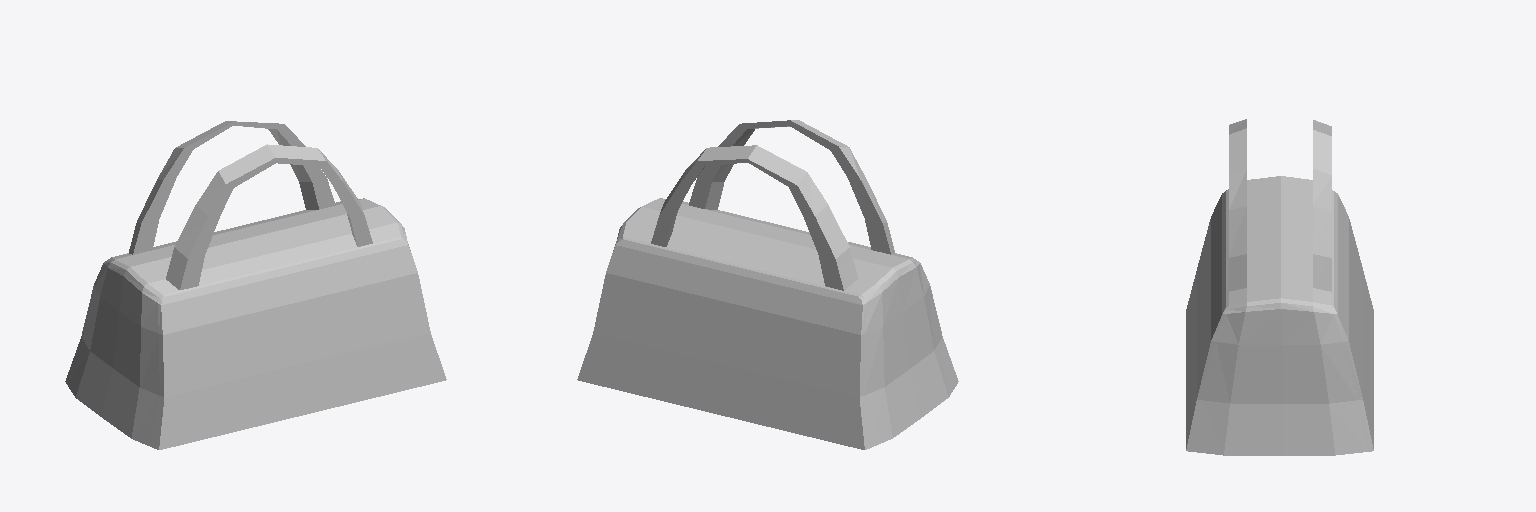
Rendered from Purse.obj.
3 views of the same model, side by side, from view 1: azimuth 30°, elevation 25°; view 2: azimuth 150°, elevation 25°; view 3: azimuth 270°, elevation 25° (orthographic).
Size of the model in its own units: 0.1945 by 0.1517 by 0.1033.